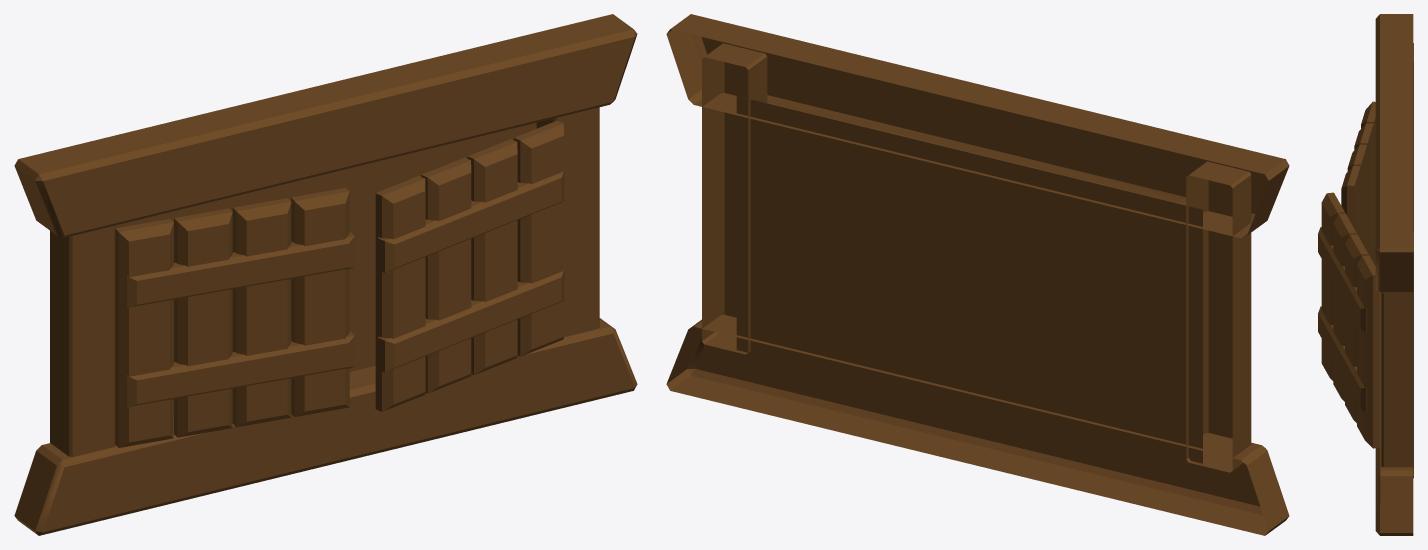
The model's file is VentanaDoble3.fbx.
3 views of the same model, side by side, from view 1: azimuth 30°, elevation 25°; view 2: azimuth 150°, elevation 25°; view 3: azimuth 270°, elevation 25° (orthographic). The views are drawn at different scales.
Visible parts, largest first — view 1: Ventana2; view 2: Ventana2; view 3: Ventana2.
Part boxes in pixels (<box>): Ventana2: <box>14,14,637,535</box>; Ventana2: <box>666,14,1289,535</box>; Ventana2: <box>1318,14,1413,535</box>.
Bounding box in the file's own units: 0.6512 × 0.3736 × 0.1119.
